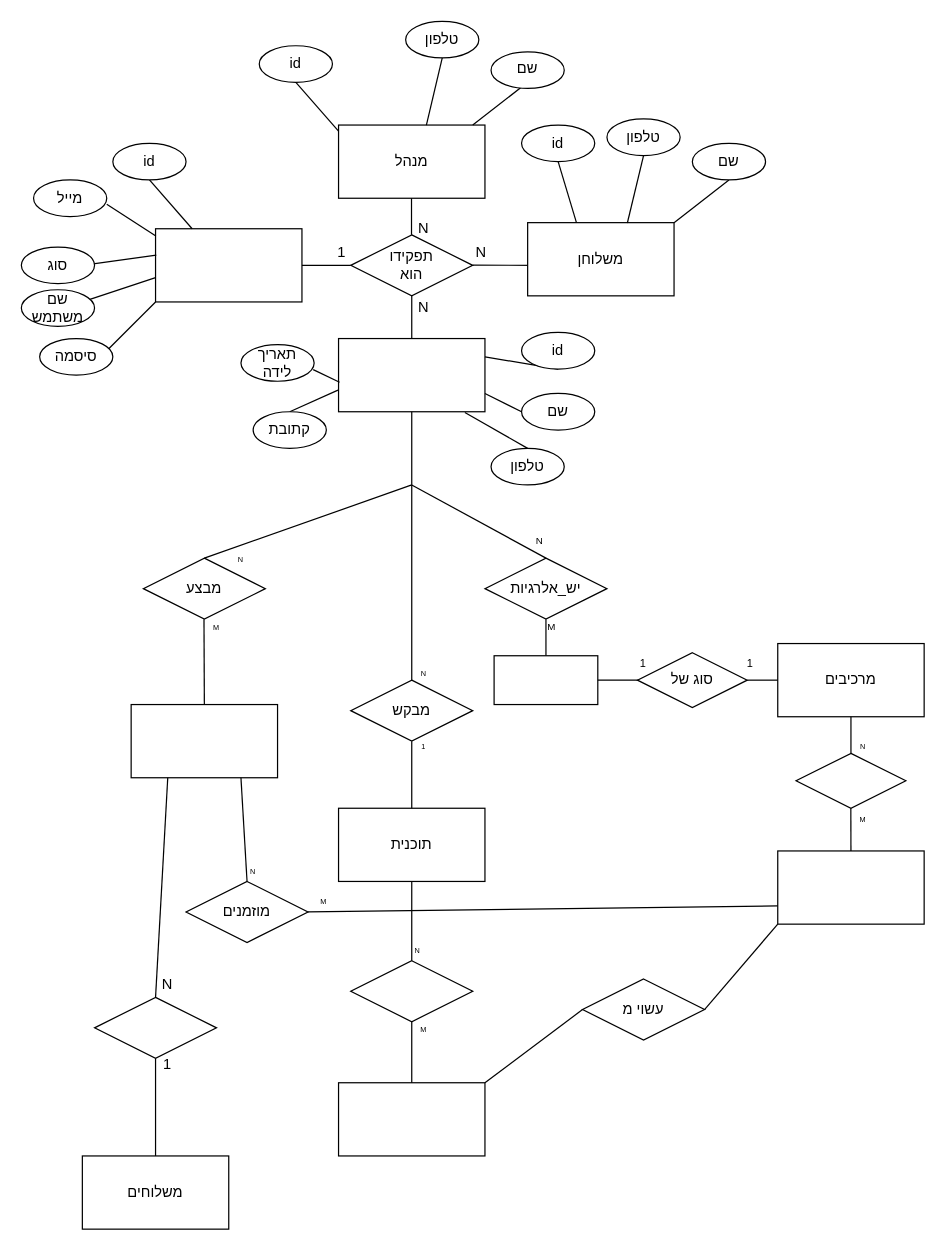
Some shapes in this 946 by 1251 pixel diagram are drawn without their labels. Here are the shapes that lost their labels. From the top down, the box of each, then its label:
(154, 228, 302, 302): משתמשים
(337, 337, 485, 412): לקוח
(493, 655, 598, 705): אלרגיות
(130, 703, 278, 778): הזמנות
(795, 752, 906, 808): מכיל
(777, 850, 924, 924): מוצרים
(350, 960, 473, 1022): מכילה
(93, 996, 217, 1058): נשלח ב
(337, 1082, 485, 1156): מתקונים
